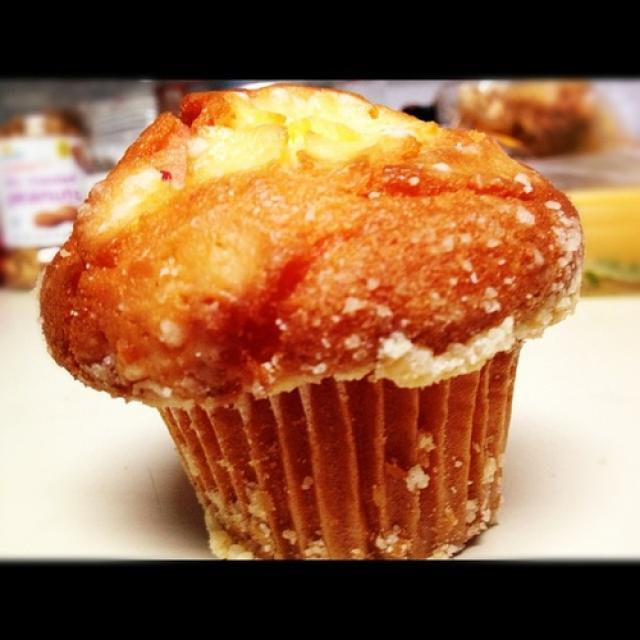炸货点心: (22, 60, 599, 557)
面包点心: (22, 60, 599, 557)
